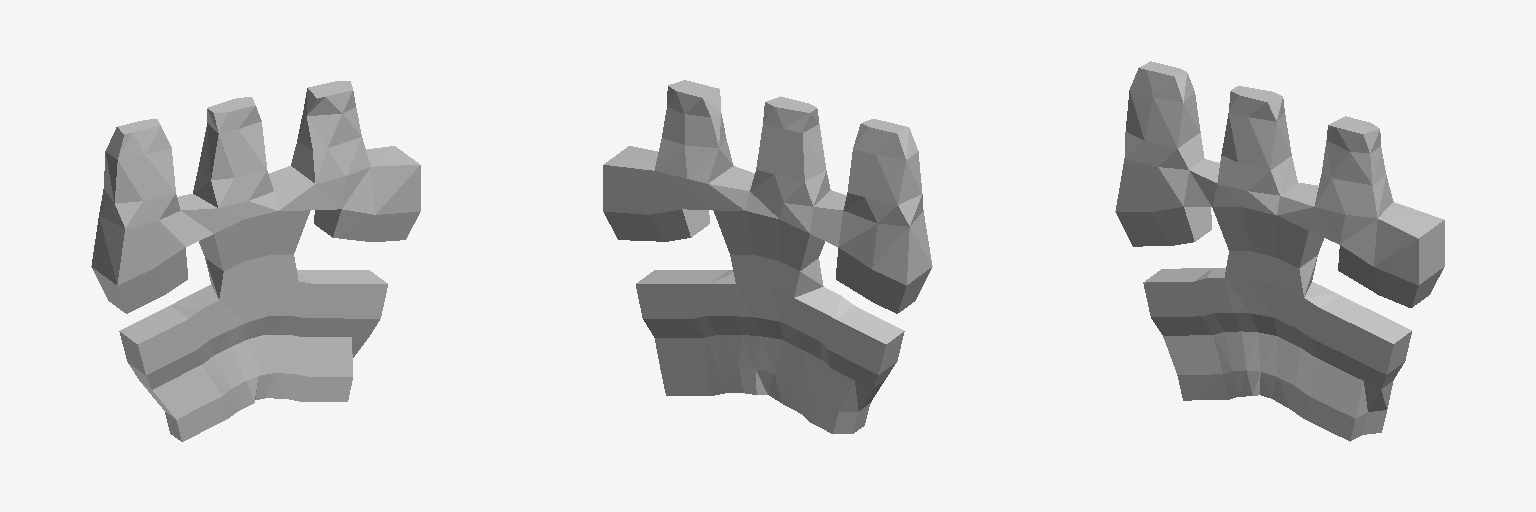
File: char-bot.obj
3 views of the same model, side by side, from view 1: azimuth 30°, elevation 25°; view 2: azimuth 150°, elevation 25°; view 3: azimuth 330°, elevation 25° (orthographic).
Visible parts, largest first — view 1: Cube.004; view 2: Cube.004; view 3: Cube.004.
Part boxes in pixels (x1,y1,x2,y2): Cube.004: (91, 81, 420, 441); Cube.004: (603, 80, 932, 433); Cube.004: (1115, 61, 1444, 441).
Bounding box in the file's own units: 6.21 × 6.19 × 0.9177.